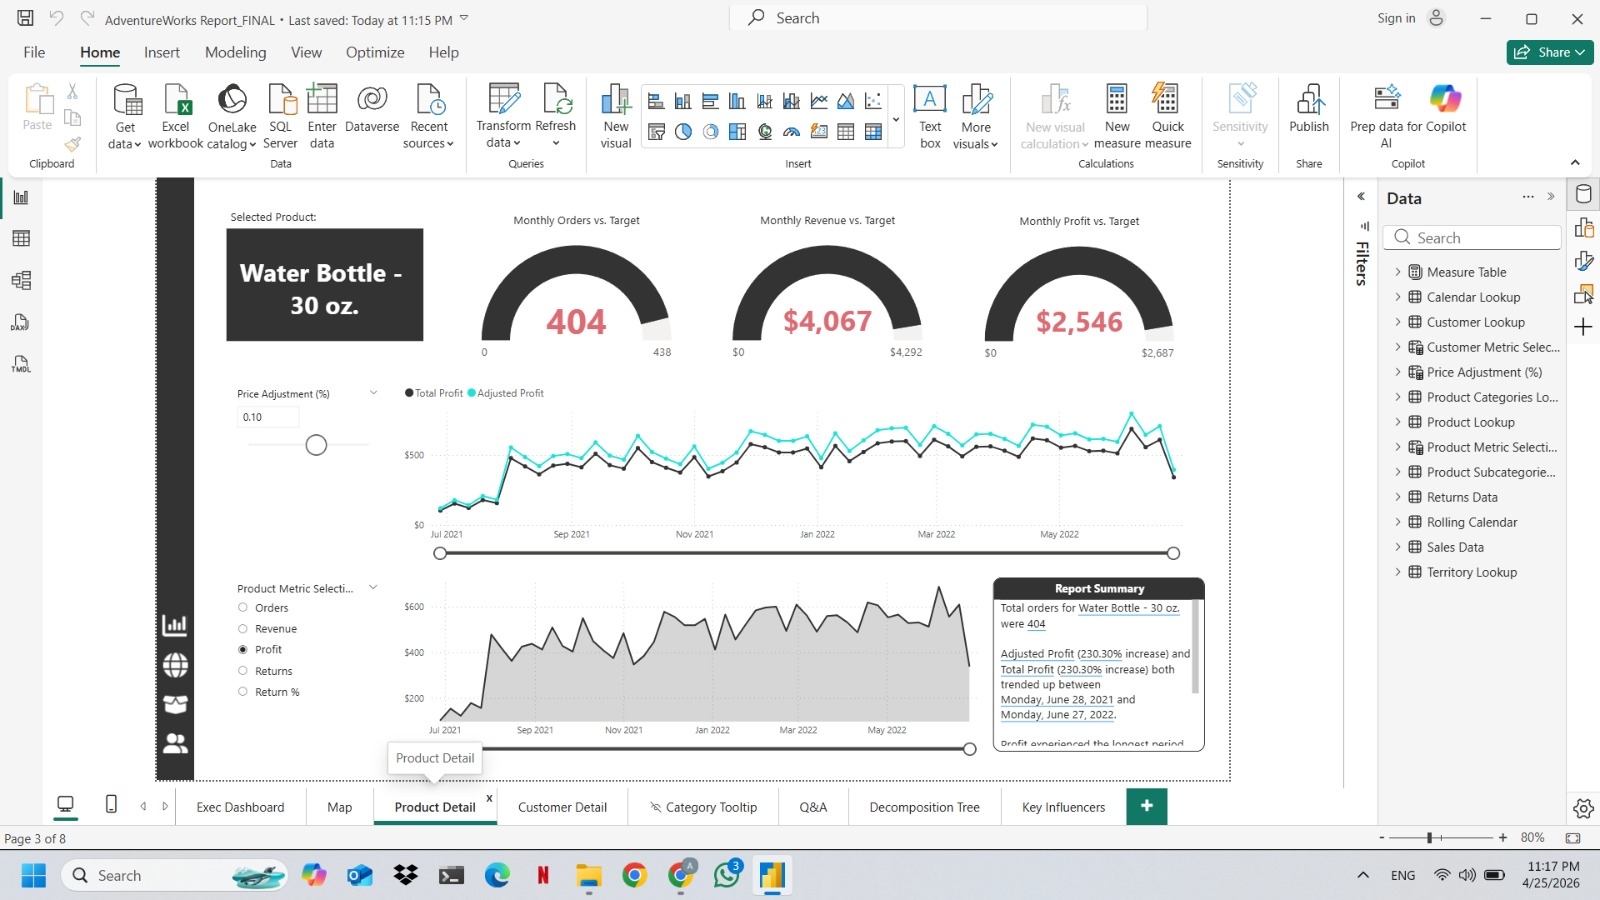

The dashboard page shown, as its layout file describes it:
{"tool":"powerbi","page":{"name":"Product Detail","canvas":[1280,720],"ordinal":2},"visuals":[{"type":"shape","box":[0,0,45,720],"z":0},{"type":"actionButton","box":[2.5,516.7,45.6,37.8],"z":0,"group":"g1"},{"type":"gauge","title":"Monthly Orders vs. Target","fields":{"Y":["Measure Table.Total Orders"],"MaxValue":["Measure Table.Order Target"]},"box":[383.7,41.5,236.9,203.7],"z":1000},{"type":"actionButton","box":[3.3,563.4,45.6,37.8],"z":1000,"group":"g1"},{"type":"gauge","title":"Monthly Revenue vs. Target","fields":{"Y":["Measure Table.Total Revenue"],"MaxValue":["Measure Table.Revenue Target"]},"box":[683.5,41.5,236.9,203.7],"z":2000},{"type":"actionButton","box":[3.3,611.1,45.6,37.8],"z":2000,"group":"g1"},{"type":"gauge","title":"Monthly Profit vs. Target","fields":{"Y":["Measure Table.Total Profit"],"MaxValue":["Measure Table.Profit Target"]},"box":[983.4,41.8,236.2,203.5],"z":3000},{"type":"actionButton","box":[3.3,657.8,45.6,37.8],"z":3000,"group":"g1"},{"type":"lineChart","title":"Profit Trending","fields":{"Category":["Calendar Lookup.Date Hierarchy.Year","Calendar Lookup.Date Hierarchy.Start of Month","Calendar Lookup.Date Hierarchy.Start of Week","Calendar Lookup.Date Hierarchy.Date"],"Y":["Measure Table.Total Profit","Measure Table.Adjusted Profit"]},"box":[290.5,237.4,952.8,221.5],"z":4000},{"type":"areaChart","title":"Return Trending","fields":{"Y":["Measure Table.Total Profit"],"Category":["Calendar Lookup.Date Hierarchy.Year","Calendar Lookup.Date Hierarchy.Start of Month","Calendar Lookup.Date Hierarchy.Start of Week","Calendar Lookup.Date Hierarchy.Date"]},"box":[290.5,471.3,708.7,221.5],"z":5000},{"type":"card","fields":{"Values":["Min(Product Lookup.ProductName)"]},"box":[83.6,61,235.1,134.5],"z":6000},{"type":"textbox","box":[83.6,32.8,136.8,36.2],"z":7000},{"type":"group","id":"g1","title":"Navigation Buttons","box":[2.5,516.7,46.4,178.9],"z":8000},{"type":"slicer","fields":{"Values":["Price Adjustment (%).Price Adjustment (%)"]},"box":[83.6,245.3,193.3,123.2],"z":9000},{"type":"slicer","fields":{"Values":["Product Metric Selection.Product Metric Selection"]},"box":[83.6,477,193.3,180.8],"z":10000},{"type":"textbox","title":"Report Summary","box":[999.2,478.1,253.2,208],"z":11000}]}

Visuals, with their boxes on the page's 1280x720 design canvas (x1, y1, x2, y2). These are canvas units, not pixel positions in the 1600x900 screenshot, which may show the page scaled, cropped or inside an application window:
shape: [0,0,45,720]
actionButton: [2,517,48,554]
"Monthly Orders vs. Target" gauge: [384,42,621,245]
actionButton: [3,563,49,601]
"Monthly Revenue vs. Target" gauge: [684,42,920,245]
actionButton: [3,611,49,649]
"Monthly Profit vs. Target" gauge: [983,42,1220,245]
actionButton: [3,658,49,696]
"Profit Trending" lineChart: [290,237,1243,459]
"Return Trending" areaChart: [290,471,999,693]
card - Min(Product Lookup.ProductName): [84,61,319,196]
textbox: [84,33,220,69]
"Navigation Buttons" group: [2,517,49,696]
slicer - Price Adjustment (%).Price Adjustment (%): [84,245,277,368]
slicer - Product Metric Selection.Product Metric Selection: [84,477,277,658]
"Report Summary" textbox: [999,478,1252,686]
